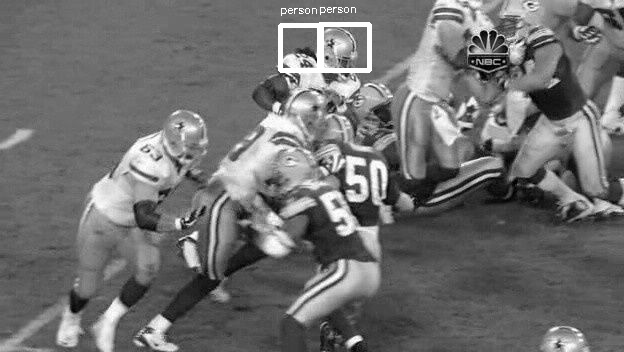person: (322, 28, 358, 74), (321, 28, 357, 74), (323, 28, 359, 74), (322, 27, 358, 73), (322, 29, 358, 75)
target_negative: (242, 41, 364, 175), (131, 46, 287, 133), (88, 271, 170, 338), (603, 150, 623, 217), (488, 301, 534, 324), (354, 209, 404, 226)
